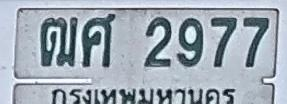2: (144, 16, 171, 67)
7: (243, 17, 269, 68), (211, 17, 236, 68)
9: (177, 17, 202, 67)
A18: (40, 16, 78, 67)
A38: (82, 13, 116, 68)
BKK: (43, 85, 243, 104)
